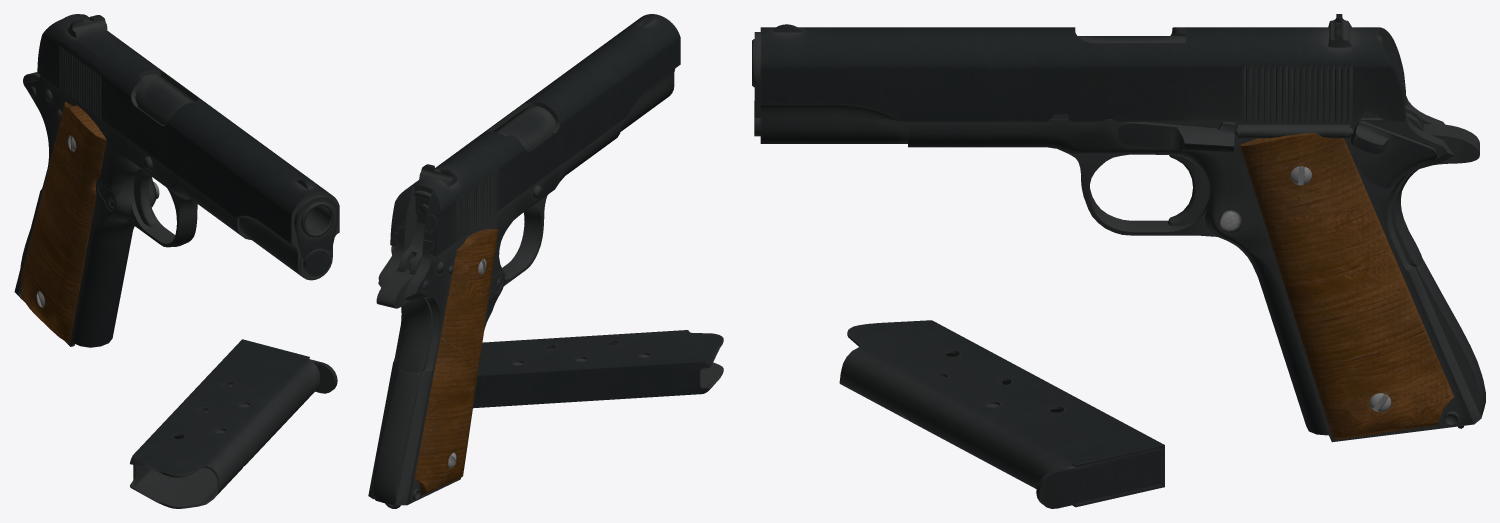
Rendered from m1911_pistol.glb.
The picture shows the model from 3 angles, left to right: view 1: azimuth 30°, elevation 25°; view 2: azimuth 150°, elevation 25°; view 3: azimuth 270°, elevation 25°; orthographic projection. The views are drawn at different scales.
Visible parts, largest first — view 1: m_1911_base, m_1911_bolt_01, m_1911_mag; view 2: m_1911_base, m_1911_bolt_01, m_1911_mag, m_1911_bolt_02; view 3: m_1911_base, m_1911_bolt_01, m_1911_mag.
Part boxes in pixels (x1,y1,x2,y2): m_1911_base: [14, 72, 334, 347]; m_1911_bolt_01: [37, 14, 339, 280]; m_1911_mag: [130, 339, 337, 508]; m_1911_base: [368, 106, 620, 508]; m_1911_bolt_01: [390, 14, 680, 256]; m_1911_mag: [473, 330, 723, 408]; m_1911_bolt_02: [398, 190, 431, 274]; m_1911_base: [752, 36, 1485, 442]; m_1911_bolt_01: [754, 14, 1405, 143]; m_1911_mag: [839, 320, 1164, 508].
Bounding box in the file's own units: 0.253 × 0.3109 × 0.5015.
1 material, 1 textured.
